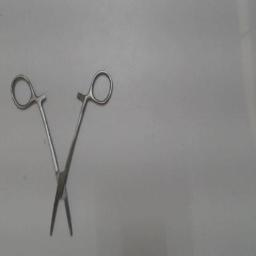Mayo Needle Holder: (8, 68, 116, 240)
